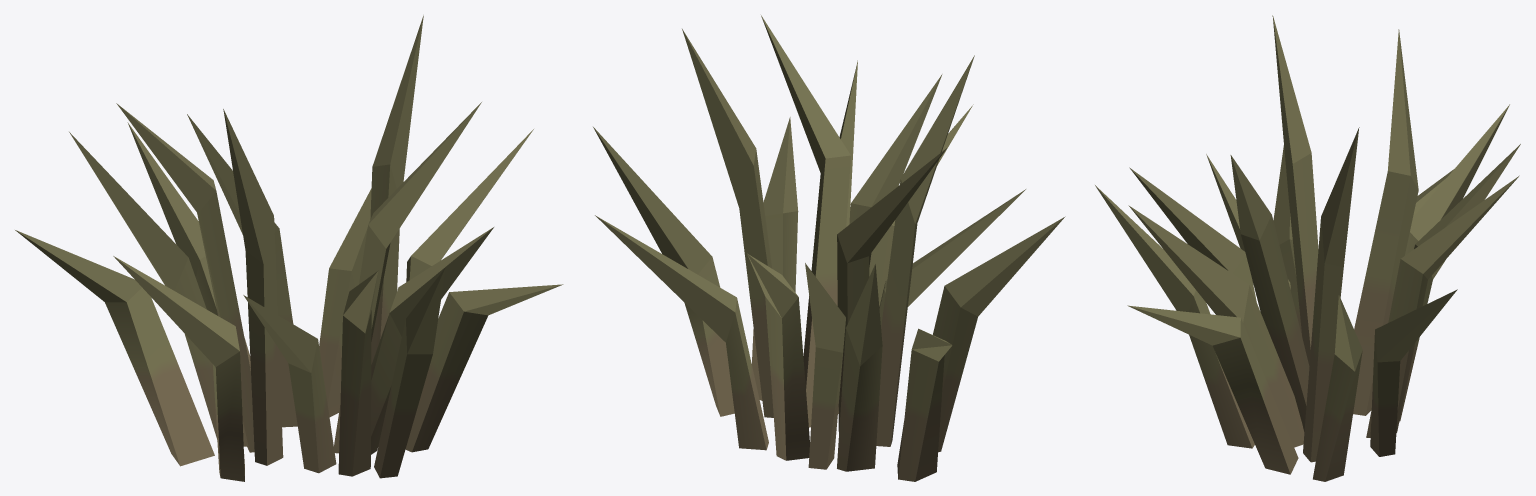
File: SM_Env_Grass_03.fbx
3 renders of one model, left to right at view 1: azimuth 30°, elevation 25°; view 2: azimuth 150°, elevation 25°; view 3: azimuth 270°, elevation 25°, orthographic. The views are drawn at different scales.
Visible parts, largest first — view 1: SM_Env_Grass_03; view 2: SM_Env_Grass_03; view 3: SM_Env_Grass_03.
Part boxes in pixels (x1,y1,x2,y2): SM_Env_Grass_03: (15, 15, 563, 481); SM_Env_Grass_03: (593, 15, 1065, 481); SM_Env_Grass_03: (1095, 15, 1520, 481).
Bounding box in the file's own units: 134 × 111 × 118.
